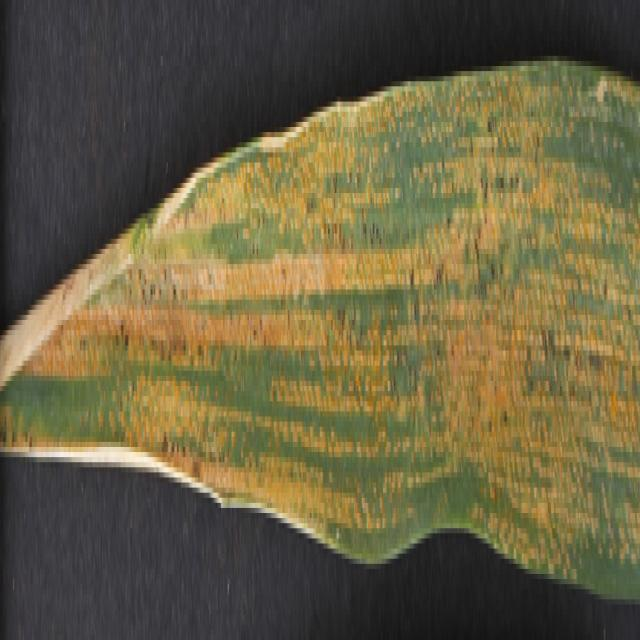leaf rust: (1, 81, 638, 594)
